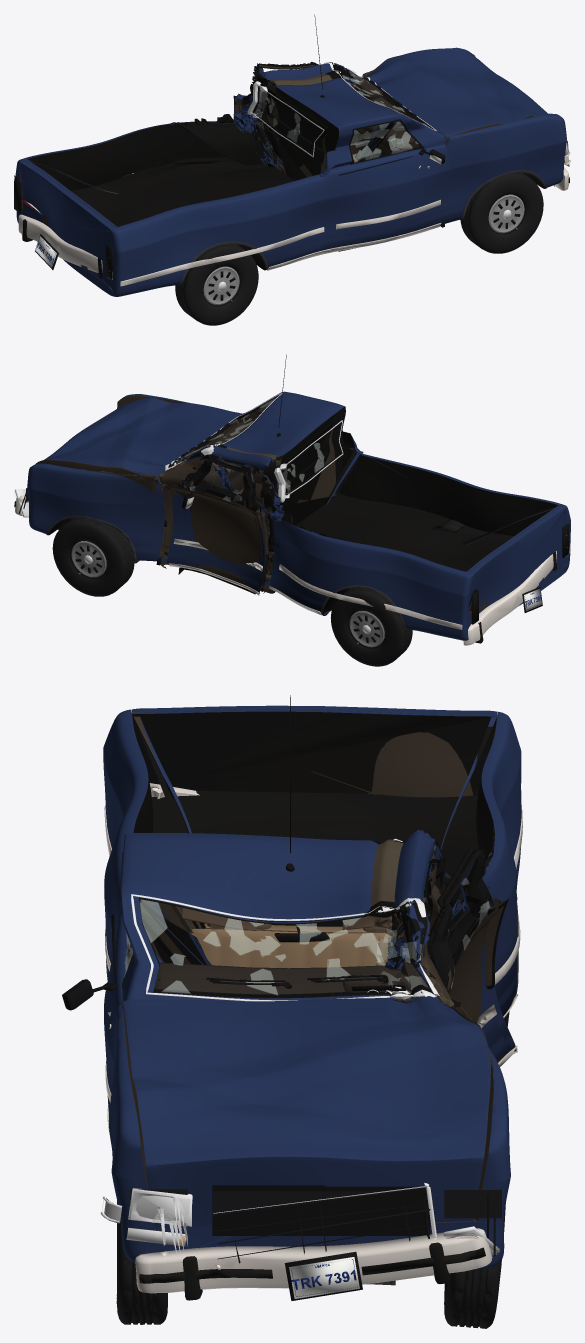
The model's file is pickup87_side_d2_lod1.glb.
3 renders of one model, top to bottom at view 1: azimuth 30°, elevation 25°; view 2: azimuth 150°, elevation 25°; view 3: azimuth 270°, elevation 25°, orthographic. The views are drawn at different scales.
Parts seen in each view (by area): view 1: Body, Hood, Wheel_FR_mesh, Wheel_RR_mesh, Tailgate, Door_FR, Trim, Glass, Interior, Trim_FR, Bumper_R, Glass_FR (+2 smaller); view 2: Body, Hood, Door_FL, Wheel_FL_mesh, Tailgate, Wheel_RL_mesh, Trim, Glass, Bumper_R, Trim_FL, Ends, Interior (+1 smaller); view 3: Body, Hood, Ends, Interior, Bumper_F, Glass, Tailgate, Door_FL, Wheel_FL_mesh, Wheel_FR_mesh, Glass_FL, Trim (+3 smaller).
Part boxes in pixels (x1,y1,x2,y2): Body: [15, 52, 566, 296]; Hood: [363, 47, 547, 142]; Wheel_FR_mesh: [460, 172, 543, 253]; Wheel_RR_mesh: [175, 244, 258, 325]; Tailgate: [19, 160, 115, 287]; Door_FR: [333, 121, 443, 247]; Trim: [120, 14, 546, 286]; Glass: [247, 62, 436, 157]; Interior: [350, 79, 417, 161]; Trim_FR: [332, 119, 445, 252]; Bumper_R: [18, 214, 102, 278]; Glass_FR: [350, 121, 420, 164]; Body: [27, 391, 570, 640]; Hood: [36, 397, 241, 477]; Door_FL: [166, 457, 268, 594]; Wheel_FL_mesh: [52, 518, 134, 596]; Tailgate: [469, 506, 565, 626]; Wheel_RL_mesh: [330, 588, 412, 666]; Trim: [46, 354, 462, 629]; Glass: [165, 393, 343, 502]; Bumper_R: [463, 551, 556, 645]; Trim_FL: [168, 458, 262, 595]; Ends: [14, 487, 569, 624]; Interior: [174, 422, 254, 492]; Body: [103, 709, 521, 1269]; Hood: [122, 996, 490, 1230]; Ends: [100, 1182, 501, 1300]; Interior: [154, 907, 428, 994]; Bumper_F: [135, 1228, 491, 1300]; Glass: [131, 838, 439, 1001]; Tailgate: [132, 705, 497, 797]; Door_FL: [427, 846, 516, 1062]; Wheel_FL_mesh: [444, 1203, 505, 1328]; Wheel_FR_mesh: [116, 1200, 167, 1324]; Glass_FL: [427, 850, 489, 988]; Trim: [104, 695, 522, 1017].
Bounding box in the file's own units: 5.17 × 2.44 × 2.12.
34 materials, 5 textured.
